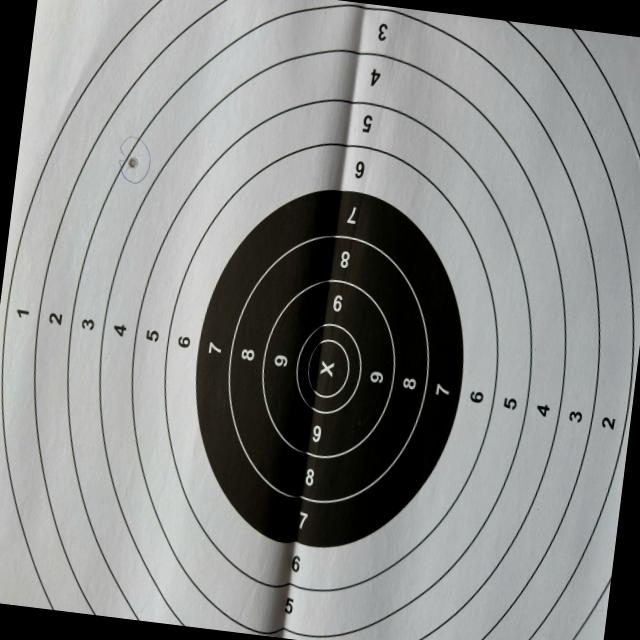bullet: (126, 157, 137, 170)
target: (0, 0, 640, 640)
